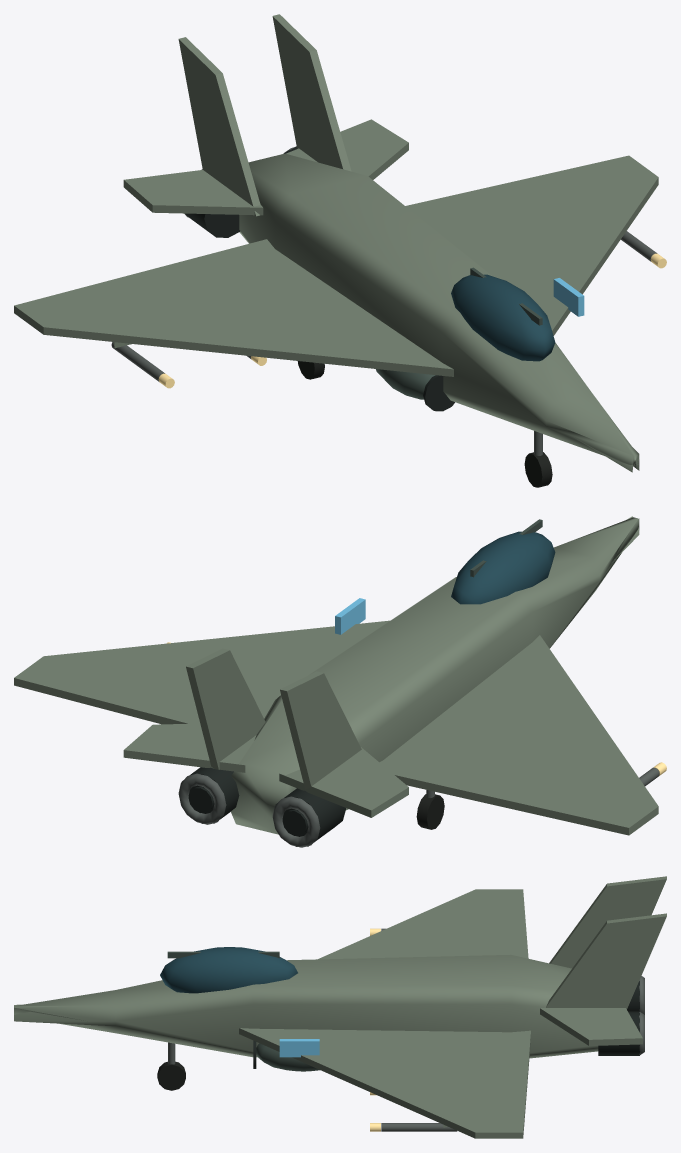
File: ecm.glb
3 views of the same model, one above another, from view 1: azimuth 30°, elevation 25°; view 2: azimuth 150°, elevation 25°; view 3: azimuth 270°, elevation 25° (orthographic). The views are drawn at different scales.
Visible parts, largest first — view 1: armor, glass, dark, trim, rubber, steel, marking; view 2: armor, glass, dark, steel, rubber, marking; view 3: armor, glass, trim, steel, dark, marking, rubber.
Part boxes in pixels (x1,y1,x2,y2): armor: (14,14,658,472); glass: (451,274,555,361); dark: (184,146,454,411); trim: (376,267,542,399); rubber: (297,361,552,487); steel: (111,147,657,381); marking: (553,278,584,316); armor: (14,516,658,835); glass: (451,531,555,604); dark: (182,767,345,846); steel: (178,767,659,847); rubber: (416,794,444,829); marking: (335,598,365,634); armor: (14,876,666,1138); glass: (160,947,297,993); trim: (167,951,319,1071); steel: (381,928,644,1131); dark: (253,981,639,1068); marking: (279,1039,319,1057); rubber: (157,1061,185,1090).
Size of the model in its own units: 7.2 by 2.64 by 8.17.
